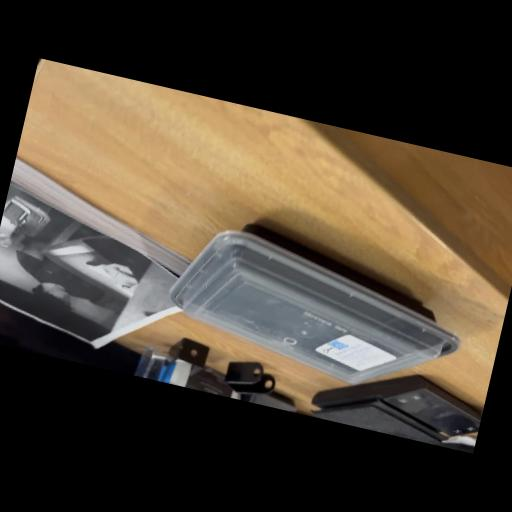rigid_plastic_container: (148, 188, 484, 410)
